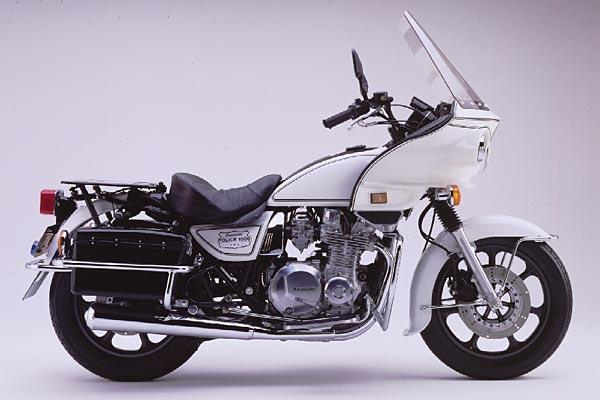motorcycle: (26, 35, 573, 394)
